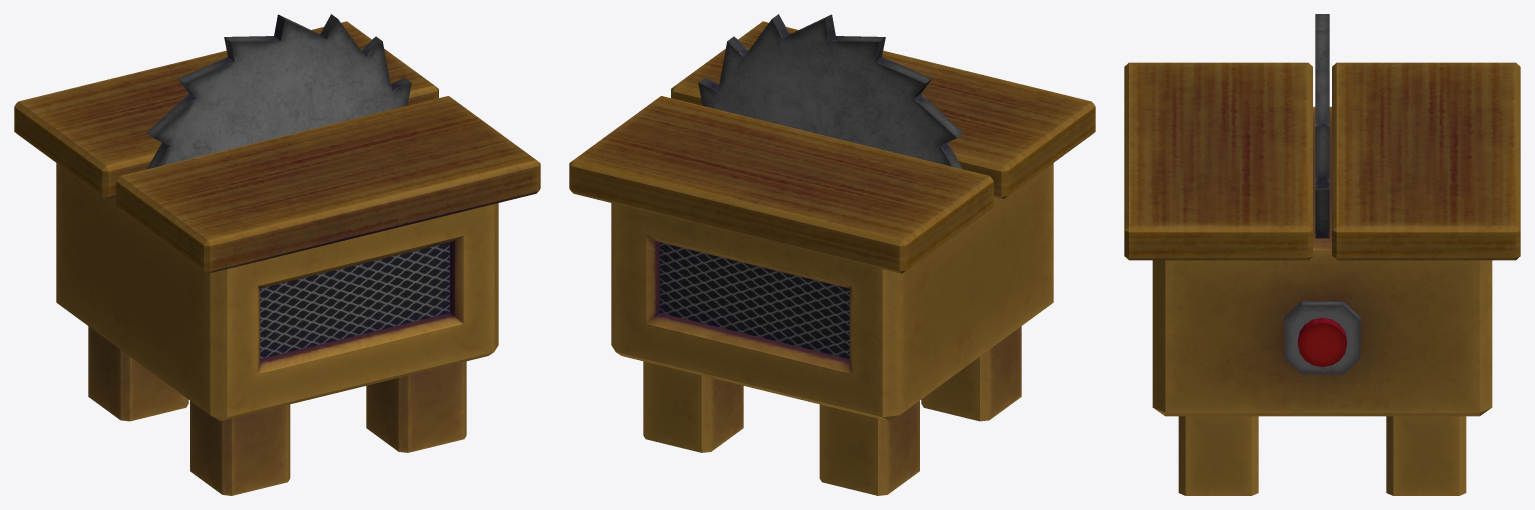
Rendered from Wood Chopper.fbx.
3 views of the same model, side by side, from view 1: azimuth 30°, elevation 25°; view 2: azimuth 150°, elevation 25°; view 3: azimuth 270°, elevation 25° (orthographic).
Parts seen in each view (by area): view 1: Cube.103, Cube.109, Cylinder.009, Cube.104, Cube.108, Cube.105, Cube.107; view 2: Cube.103, Cube.104, Cylinder.009, Cube.109, Cube.107, Cube.106, Cube.108; view 3: Cube.103, Cube.104, Cube.109, Cube.106, Cube.105, Cylinder.009, Cube.110, Cube.111.
Part boxes in pixels (x1=…): Cube.103: x1=56, y1=163, x2=498, y2=420; Cube.109: x1=116, y1=96, x2=540, y2=273; Cylinder.009: x1=146, y1=14, x2=411, y2=169; Cube.104: x1=14, y1=21, x2=438, y2=199; Cube.108: x1=190, y1=401, x2=290, y2=495; Cube.105: x1=366, y1=361, x2=466, y2=452; Cube.107: x1=88, y1=326, x2=188, y2=421; Cube.103: x1=611, y1=163, x2=1053, y2=420; Cube.104: x1=569, y1=96, x2=993, y2=273; Cylinder.009: x1=698, y1=14, x2=963, y2=169; Cube.109: x1=671, y1=21, x2=1095, y2=199; Cube.107: x1=819, y1=401, x2=919, y2=495; Cube.106: x1=643, y1=361, x2=743, y2=452; Cube.108: x1=921, y1=326, x2=1021, y2=421; Cube.103: x1=1152, y1=106, x2=1492, y2=416; Cube.104: x1=1332, y1=62, x2=1520, y2=260; Cube.109: x1=1124, y1=62, x2=1312, y2=260; Cube.106: x1=1386, y1=416, x2=1466, y2=495; Cube.105: x1=1178, y1=416, x2=1258, y2=495; Cylinder.009: x1=1315, y1=14, x2=1329, y2=238; Cube.110: x1=1284, y1=301, x2=1360, y2=374; Cube.111: x1=1298, y1=317, x2=1346, y2=366.
Bounding box in the file's own units: 42 × 47.48 × 42.
